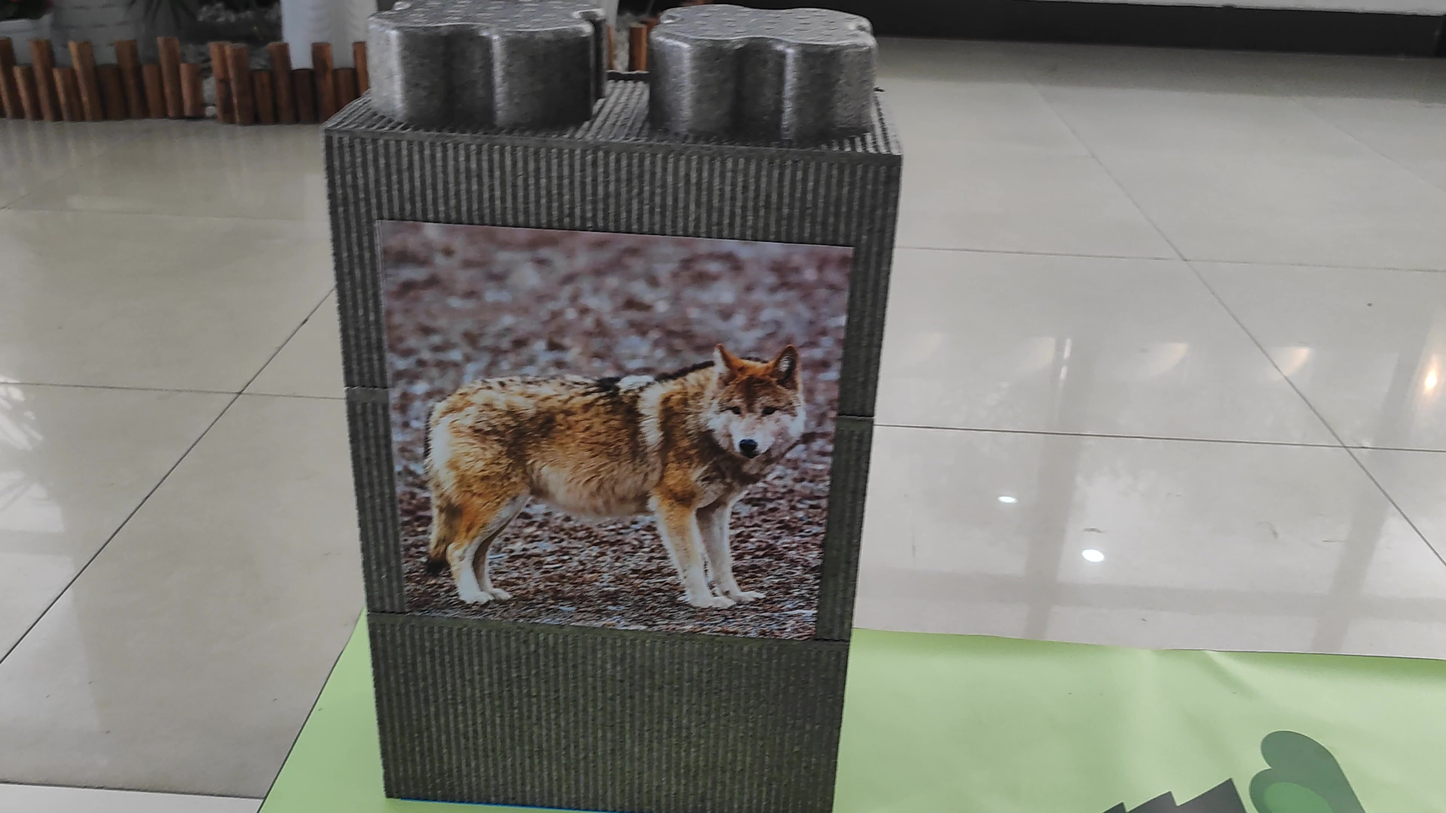wolf: (380, 292, 837, 635)
